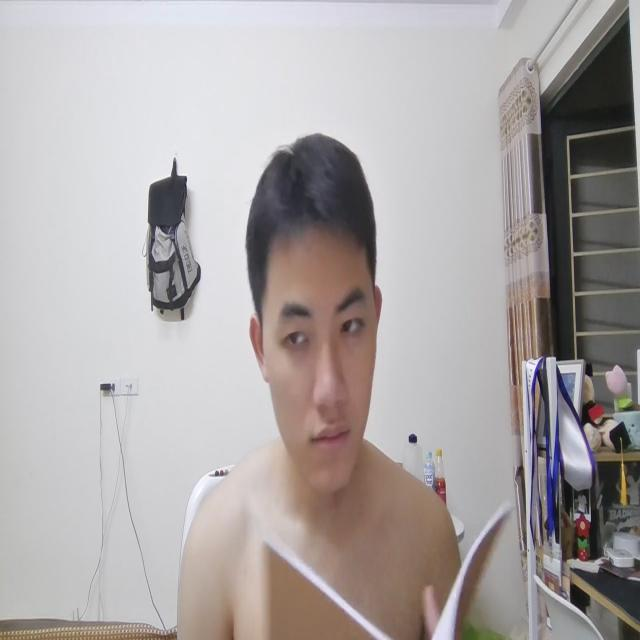book: (257, 495, 511, 640)
student: (181, 127, 456, 571)
